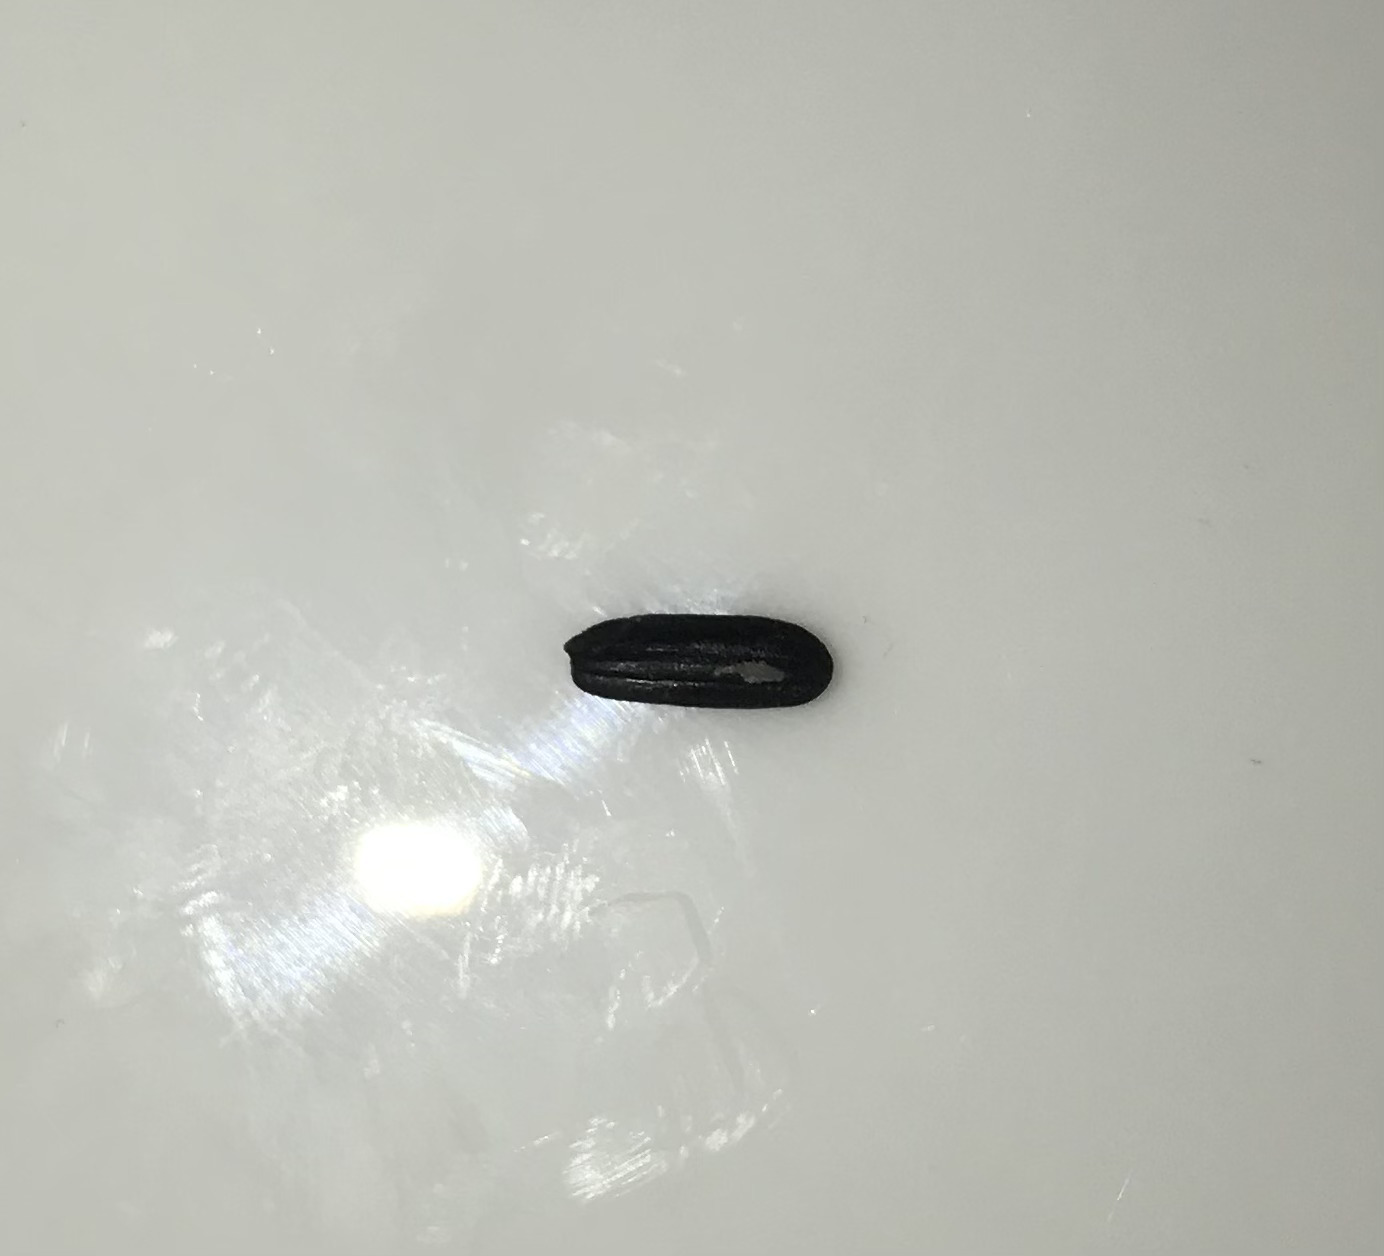Gao lut: (561, 608, 839, 722)
